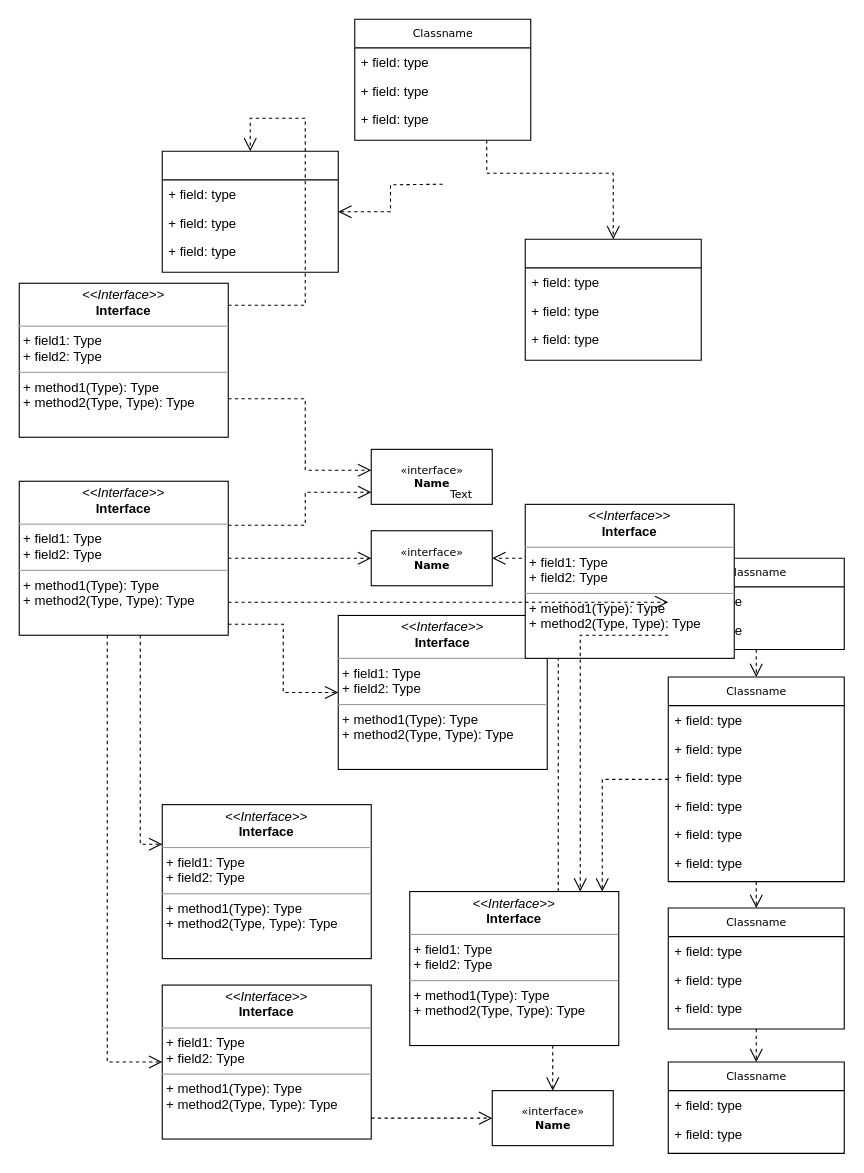
Image size: 864x1173. Some labels were removed from this diagram. Here are the shapes that lost their labels. From the top down, the box of each, then its label:
(161, 150, 338, 272): Pessoa
(524, 238, 701, 360): Tecnico
